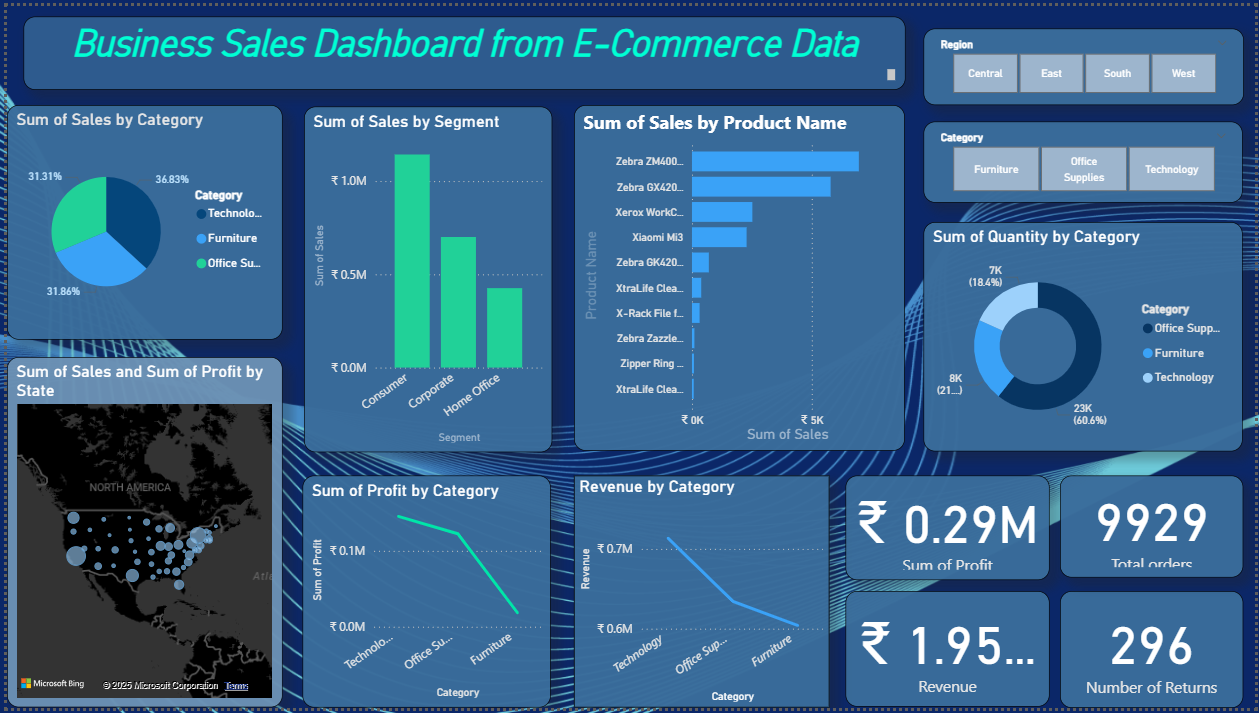

Layout of this report page (visuals, bound fields, positions):
{"tool":"powerbi","page":{"name":"Page 1","canvas":[1280,720],"ordinal":0},"visuals":[{"type":"barChart","fields":{"Category":["Orders.Product Name"],"Y":["Sum(Orders.Sales)"]},"box":[581.3,102.2,339.6,354.9],"z":0},{"type":"slicer","fields":{"Values":["Orders.Category"]},"box":[940.7,118.7,327.5,83.5],"z":1000},{"type":"slicer","fields":{"Values":["Orders.Region"]},"box":[940,23.3,328.3,78.3],"z":2000},{"type":"card","fields":{"Values":["Sum(Orders.Profit)"]},"box":[859.5,481,209.5,107.1],"z":3000},{"type":"card","fields":{"Values":["Returns.Count of Returns"]},"box":[1080,600,187.7,120],"z":4000},{"type":"lineChart","fields":{"Category":["Orders.Category"],"Y":["Sum(Orders.Profit)"]},"box":[302.4,481,254.8,238.1],"z":5000},{"type":"donutChart","fields":{"Category":["Orders.Category"],"Y":["Sum(Orders.Quantity)"]},"box":[940.7,222,327.5,235.2],"z":6000},{"type":"pieChart","fields":{"Category":["Orders.Category"],"Y":["Sum(Orders.Sales)"]},"box":[0,101.8,282.5,240.4],"z":7000},{"type":"map","fields":{"Category":["Orders.State"],"Size":["Sum(Orders.Sales)"]},"box":[0,359.6,282.5,359.6],"z":8000},{"type":"card","fields":{"Values":["Orders.Revenue"]},"box":[860,600,209.2,118.5],"z":9000},{"type":"card","fields":{"Values":["Orders.Total orders"]},"box":[1080,480.9,188.2,104.5],"z":10000},{"type":"lineChart","fields":{"Y":["Orders.Revenue"],"Category":["Orders.Category"]},"box":[581,481,261.9,238.1],"z":11000},{"type":"clusteredColumnChart","fields":{"Y":["Sum(Orders.Sales)"],"Category":["Orders.Segment"]},"box":[304.8,102.4,254.8,354.8],"z":12000},{"type":"textbox","title":"Business Sales Dashboard from E-Commerce Data","box":[16.4,10.9,904.5,75.5],"z":12001}]}

Visuals, with their boxes in screenshot pixels (x1, y1, x2, y2), scaled from the page's 1280x720 canvas onto the 1259x713 screenshot:
barChart - Orders.Product Name x Sum(Orders.Sales): l=572, t=101, r=906, b=453
slicer - Orders.Category: l=925, t=118, r=1247, b=200
slicer - Orders.Region: l=925, t=23, r=1247, b=101
card - Sum(Orders.Profit): l=845, t=476, r=1051, b=582
card - Returns.Count of Returns: l=1062, t=594, r=1247, b=712
lineChart - Orders.Category x Sum(Orders.Profit): l=297, t=476, r=548, b=712
donutChart - Orders.Category x Sum(Orders.Quantity): l=925, t=220, r=1247, b=453
pieChart - Orders.Category x Sum(Orders.Sales): l=0, t=101, r=278, b=339
map - Orders.State x Sum(Orders.Sales): l=0, t=356, r=278, b=712
card - Orders.Revenue: l=846, t=594, r=1052, b=712
card - Orders.Total orders: l=1062, t=476, r=1247, b=580
lineChart - Orders.Revenue x Orders.Category: l=571, t=476, r=829, b=712
clusteredColumnChart - Sum(Orders.Sales) x Orders.Segment: l=300, t=101, r=550, b=453
"Business Sales Dashboard from E-Commerce Data" textbox: l=16, t=11, r=906, b=86
